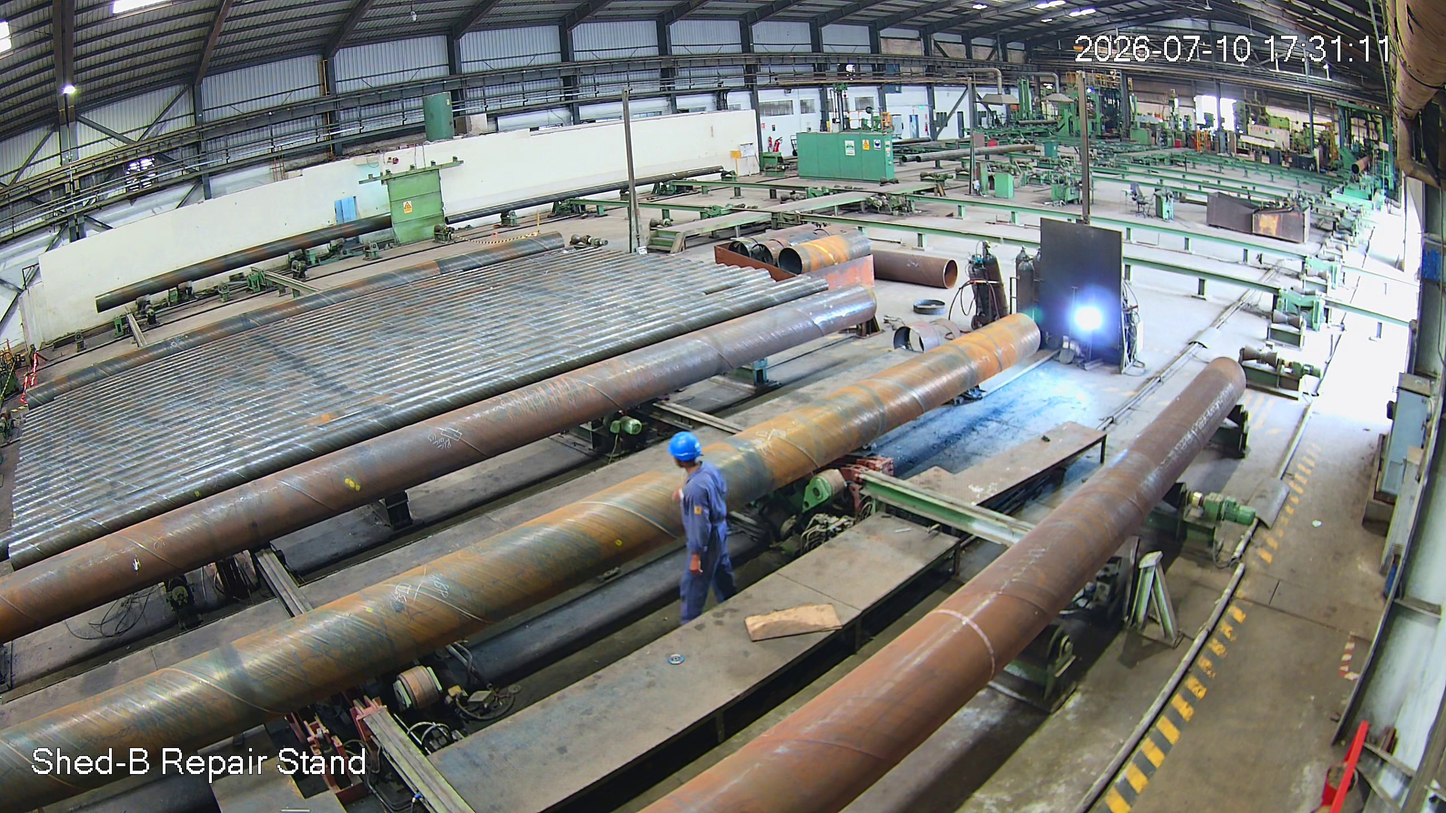Helmet: (663, 427, 718, 489)
Person: (664, 432, 750, 640)
